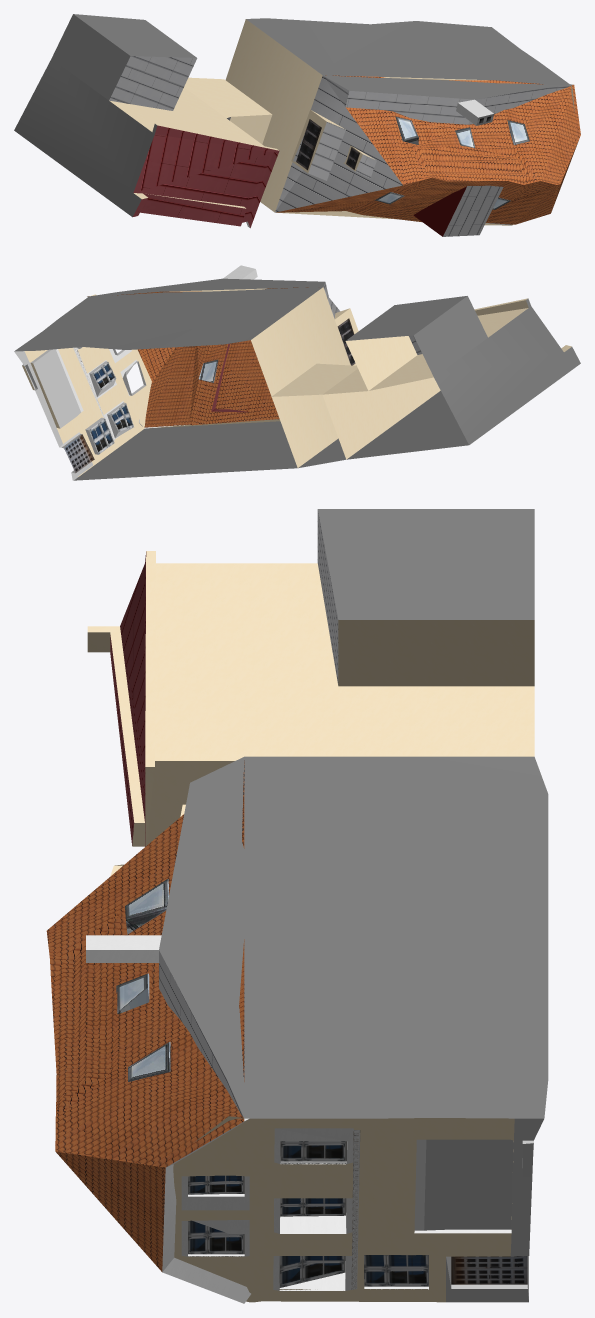
The model's file is Rataskaevu_8-origo.obj.
3 renders of one model, top to bottom at view 1: azimuth 30°, elevation 25°; view 2: azimuth 150°, elevation 25°; view 3: azimuth 270°, elevation 25°, orthographic. The views are drawn at different scales.
Parts seen in each view (by area): view 1: Rataskaevu_8; view 2: Rataskaevu_8; view 3: Rataskaevu_8.
Boxes of the visible parts, x1,y1,x2,y2 form: Rataskaevu_8: (14, 14, 580, 236); Rataskaevu_8: (14, 265, 580, 480); Rataskaevu_8: (46, 509, 548, 1303).
Size of the model in its own units: 32.19 by 15.5 by 15.35.
